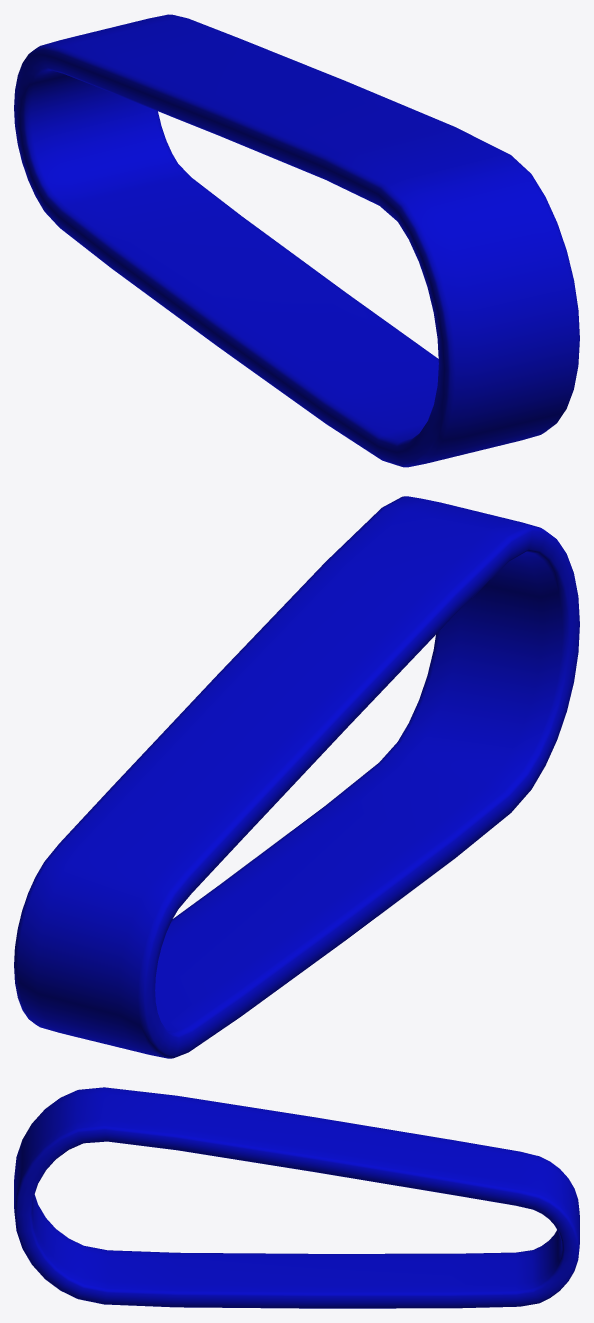
The model's file is chaine.fbx.
3 renders of one model, top to bottom at view 1: azimuth 30°, elevation 25°; view 2: azimuth 150°, elevation 25°; view 3: azimuth 270°, elevation 25°, orthographic. The views are drawn at different scales.
Visible parts, largest first — view 1: SM_Chaine_Low; view 2: SM_Chaine_Low; view 3: SM_Chaine_Low.
Boxes of the visible parts, box(x1,y1,x2,y2) form: SM_Chaine_Low: box(14, 14, 579, 467); SM_Chaine_Low: box(14, 496, 579, 1058); SM_Chaine_Low: box(14, 1087, 579, 1308).
Bounding box in the file's own units: 6.28 × 12.77 × 35.72.
